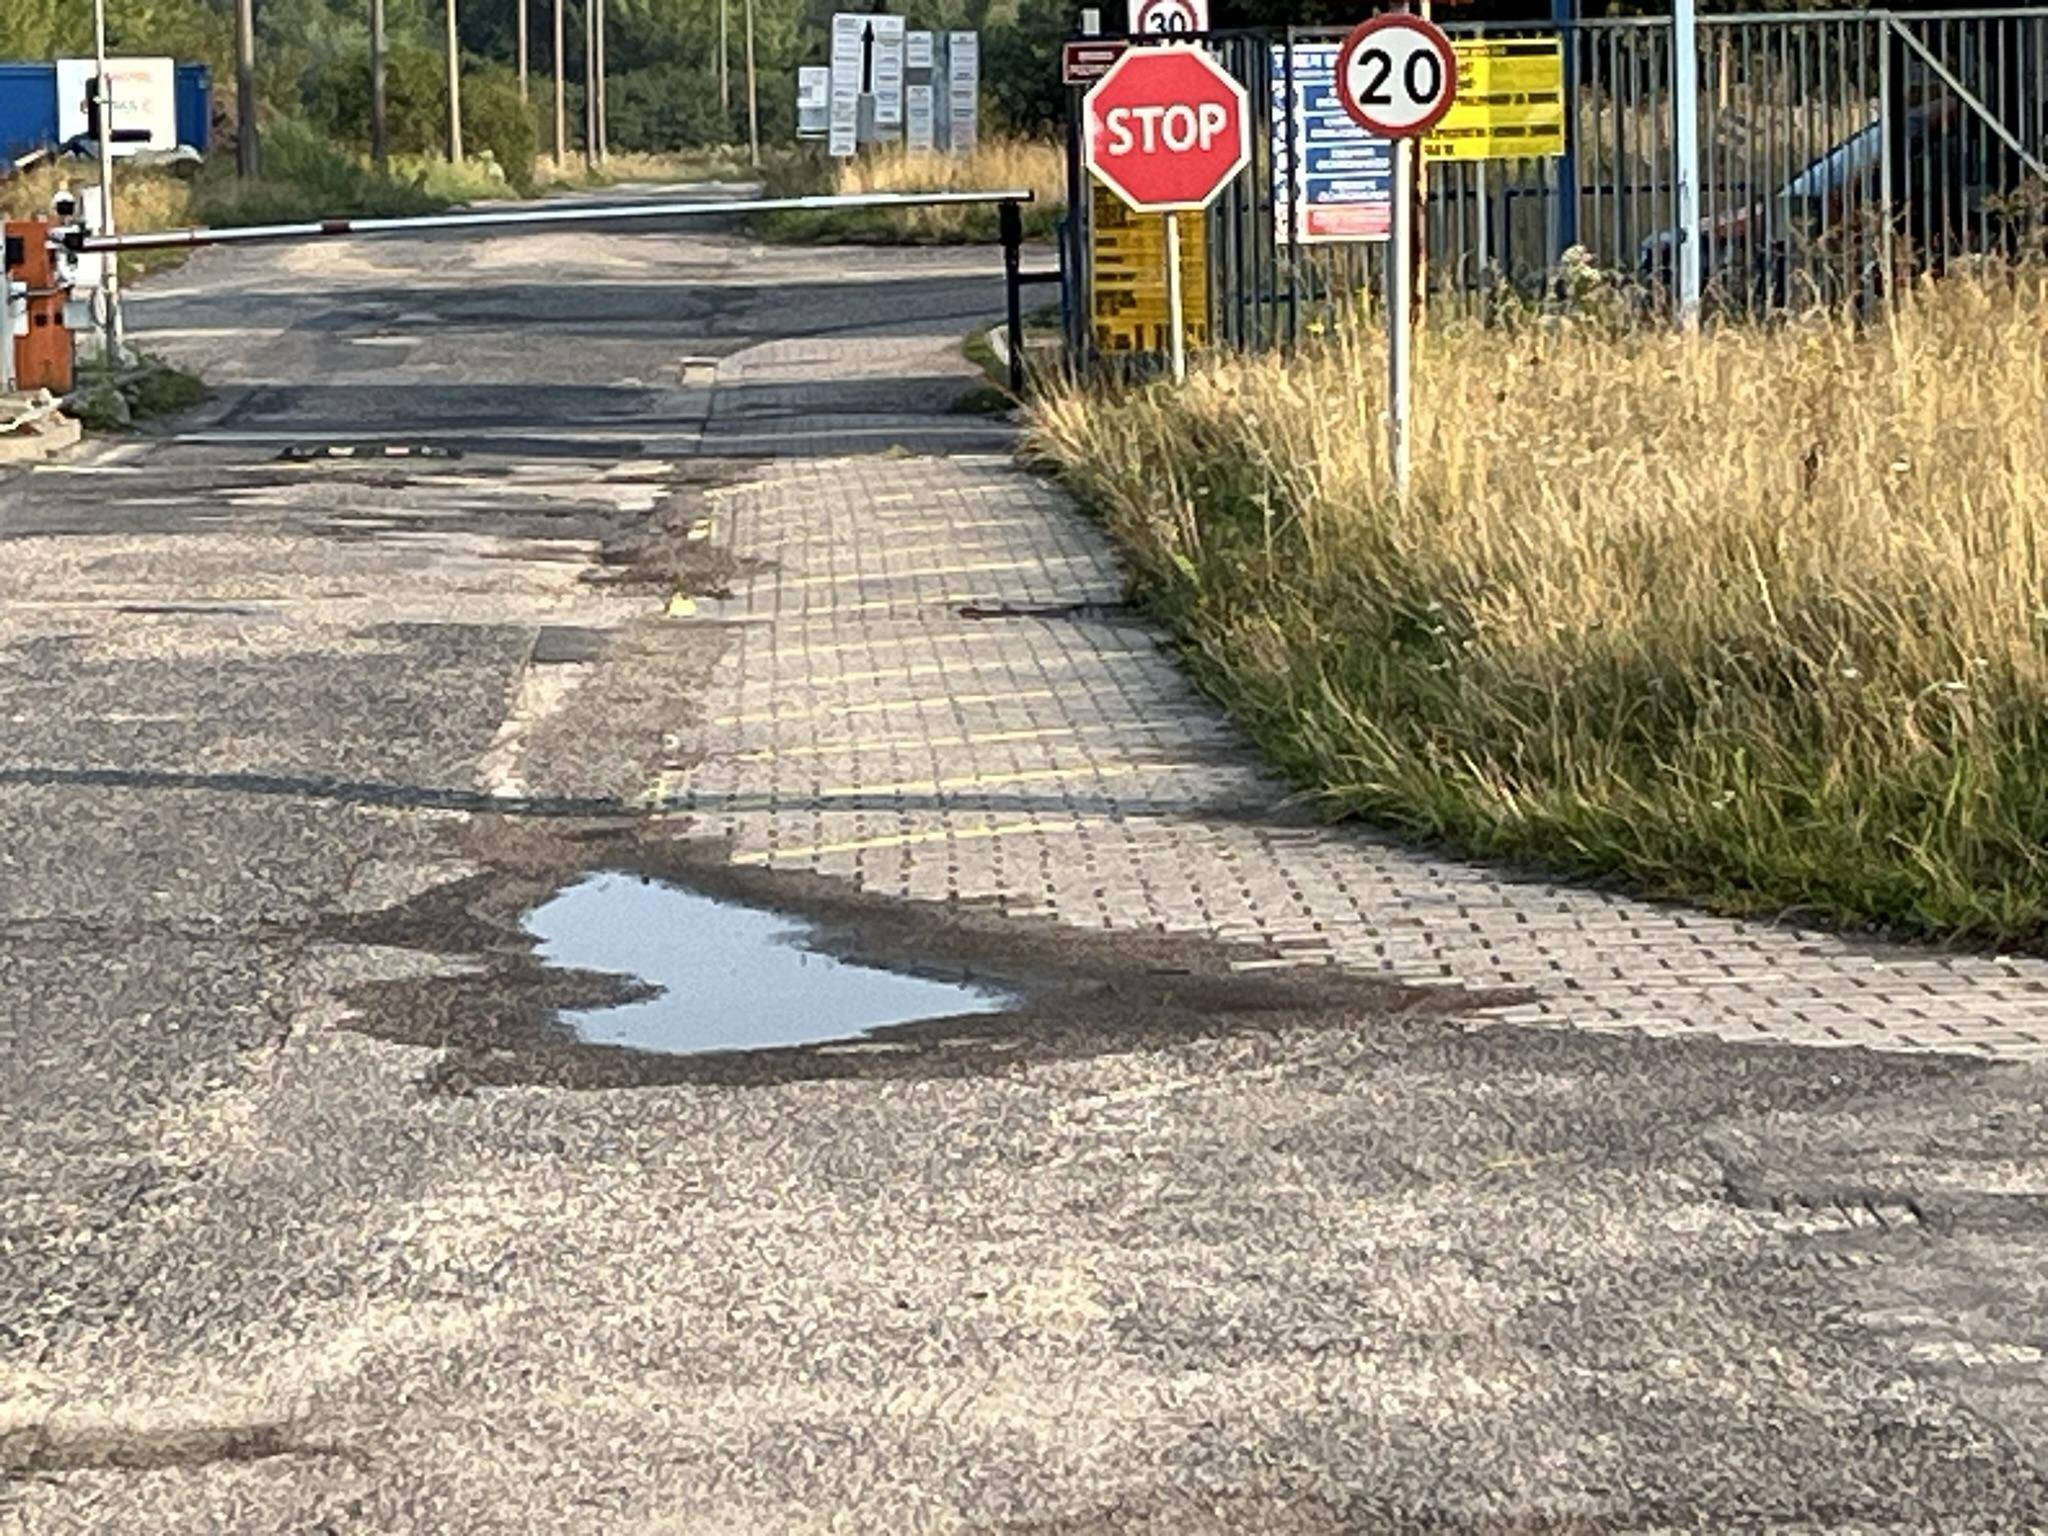prohibitory: (1084, 47, 1253, 213), (1334, 11, 1458, 137), (1138, 2, 1197, 32)
